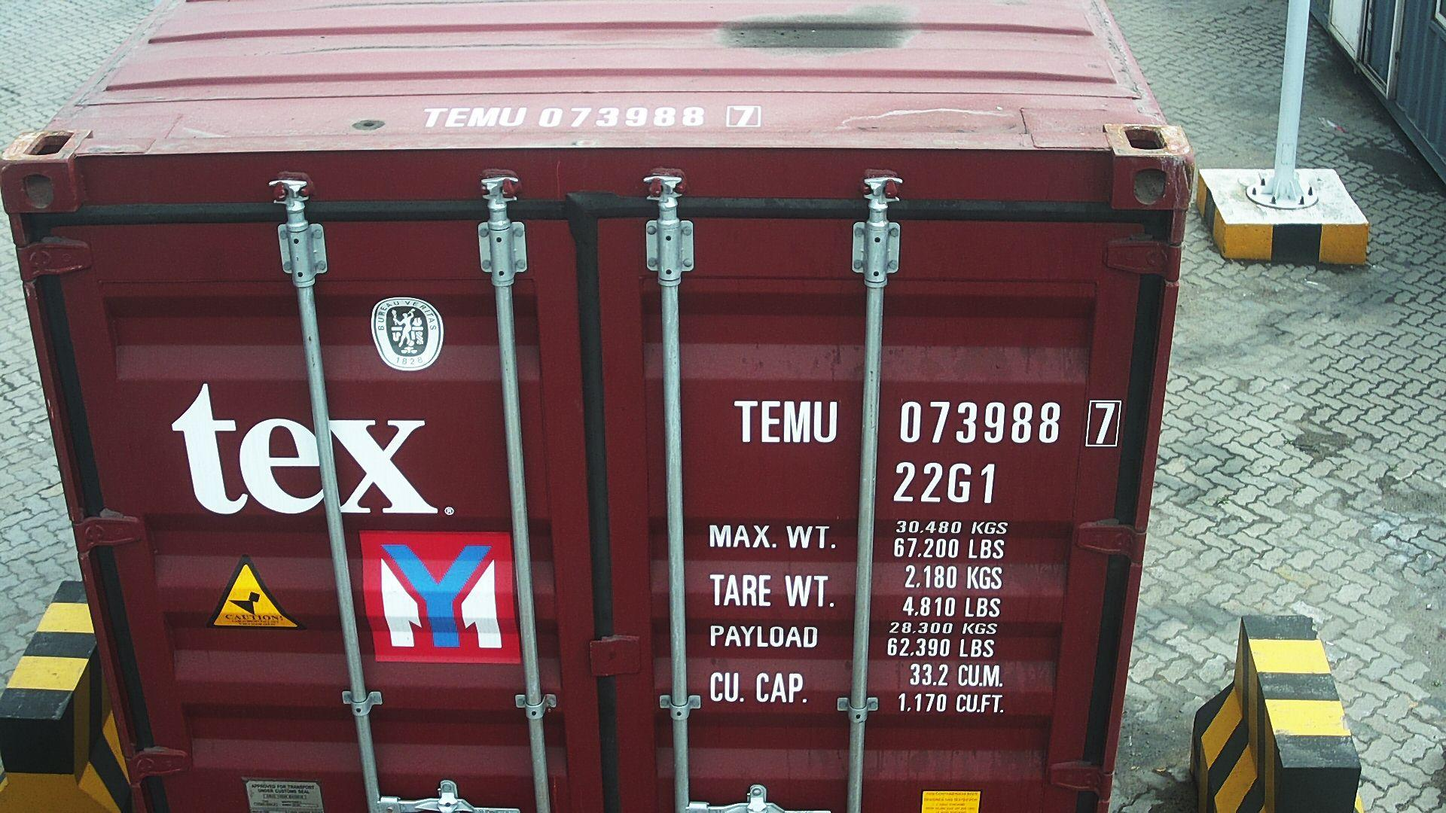container-numbers: (731, 394, 1125, 449), (415, 101, 771, 132), (890, 458, 1000, 507)
